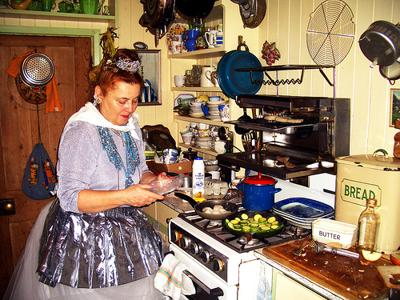person: (19, 54, 176, 300)
